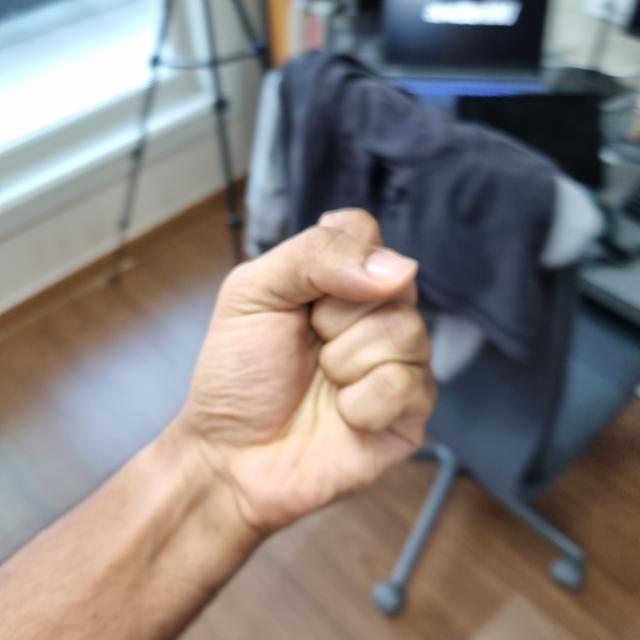Rock: (174, 212, 431, 523)
